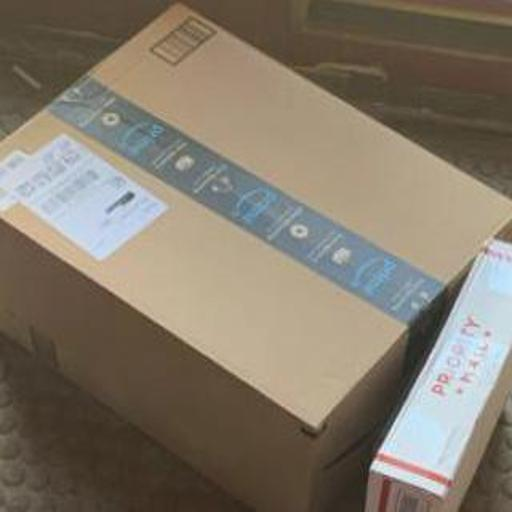Amazon: (3, 11, 506, 450)
Other: (381, 244, 512, 512)
